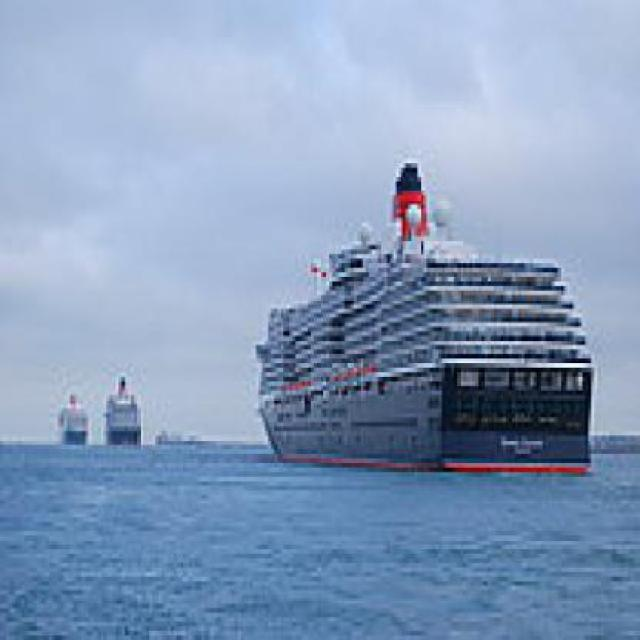cruise: (245, 150, 605, 492)
